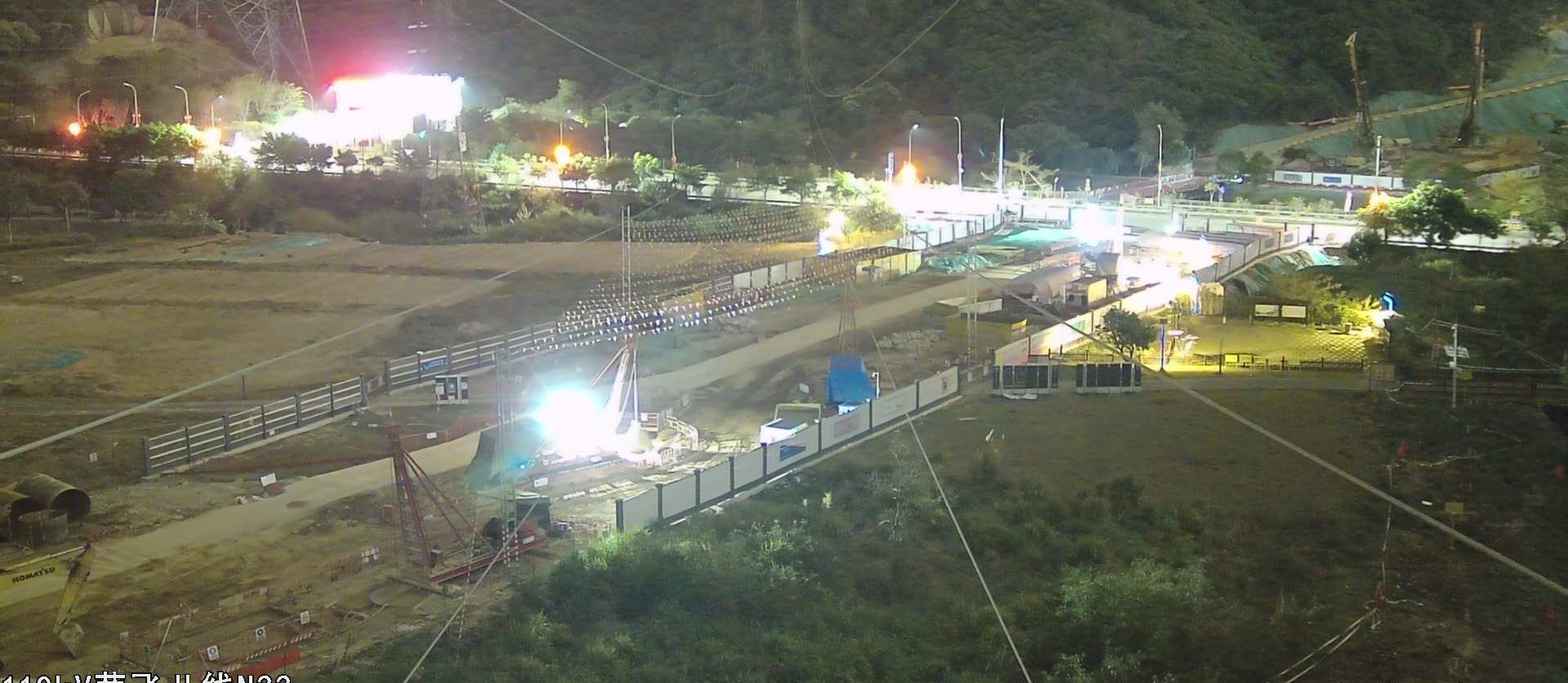过爆灯光: (883, 160, 1071, 246), (273, 73, 465, 148), (1116, 206, 1216, 308), (528, 388, 660, 465), (192, 127, 261, 166), (1071, 202, 1116, 246), (817, 211, 847, 256), (554, 144, 570, 164), (1370, 191, 1387, 205), (68, 122, 80, 135)
